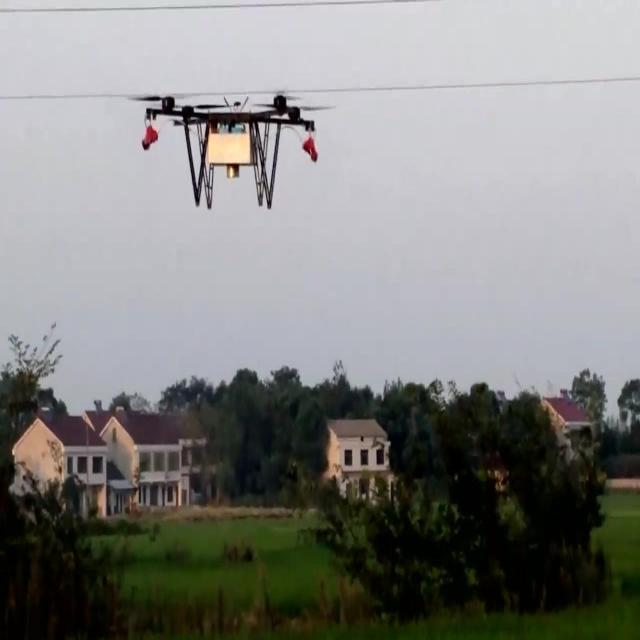drone: (129, 92, 327, 213)
